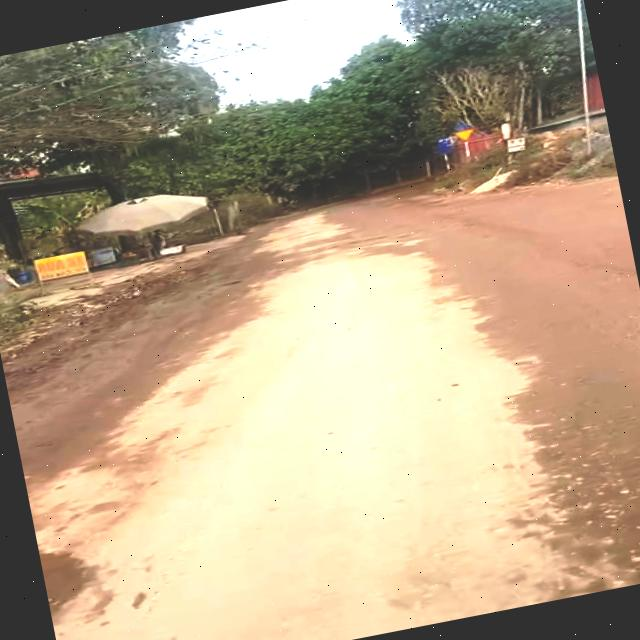pothole: (38, 531, 116, 626)
